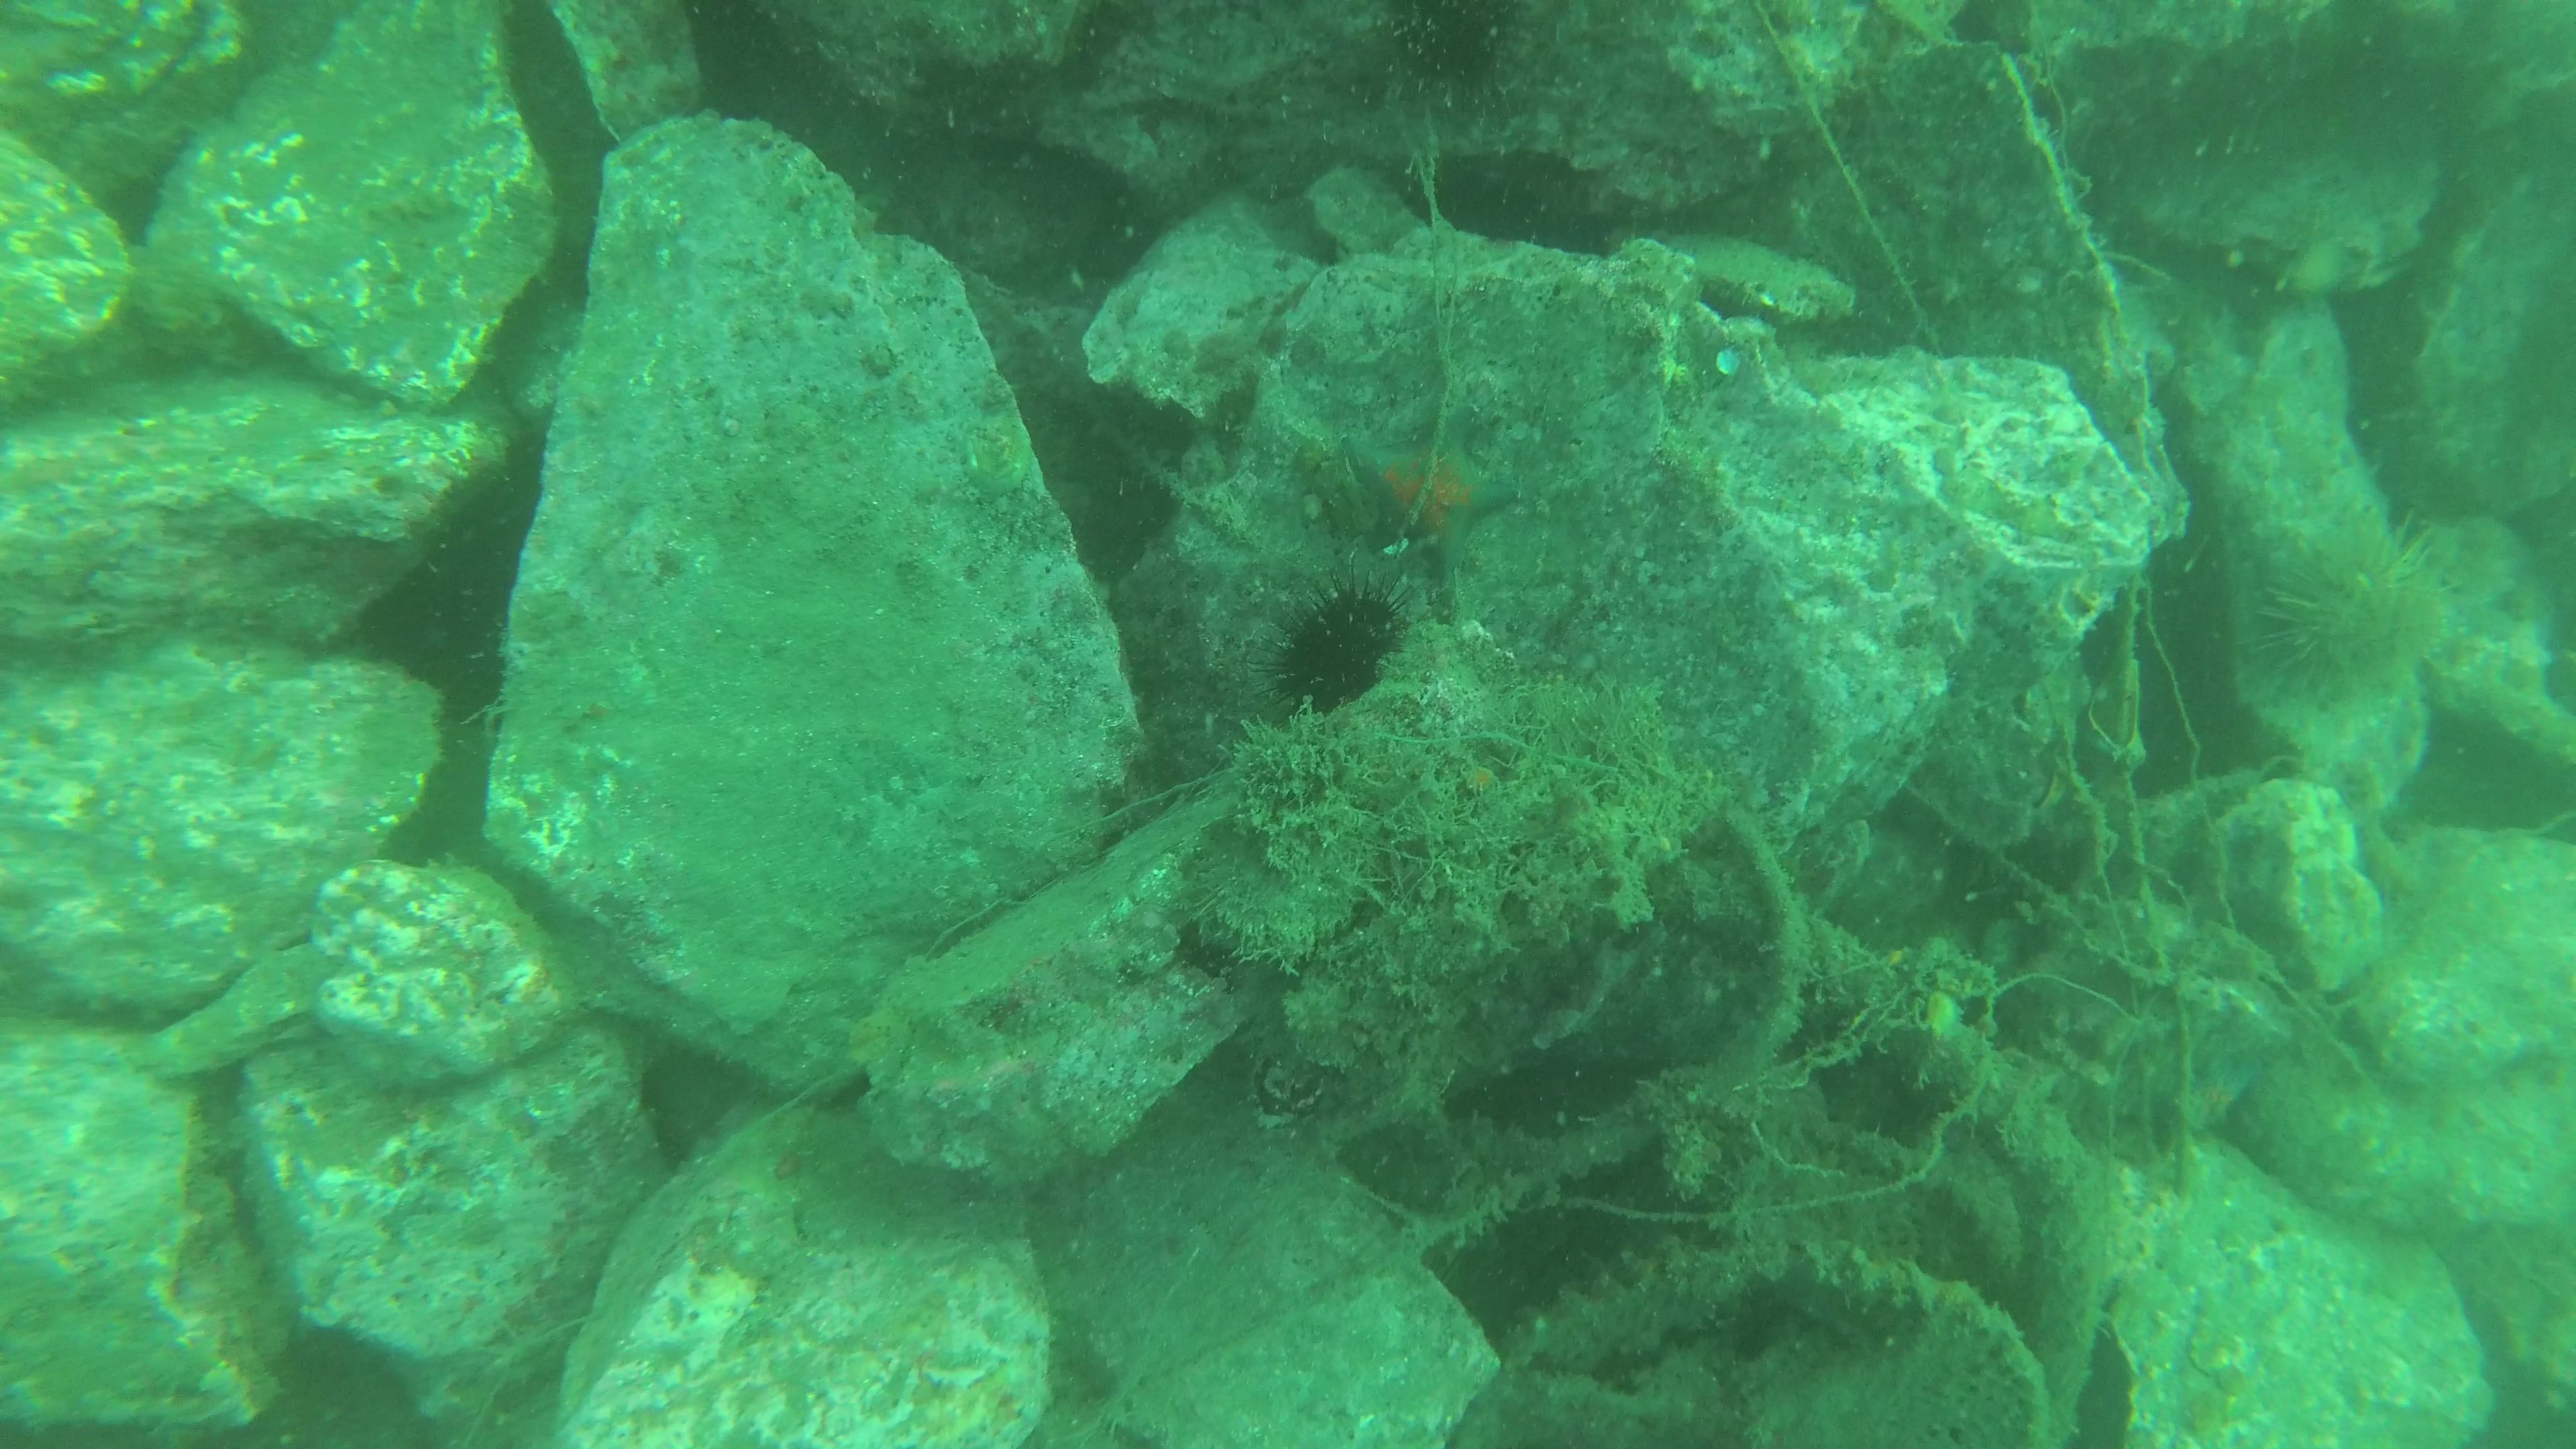echinus: (2247, 497, 2480, 741), (1249, 561, 1407, 722), (1361, 0, 1545, 103)
starfish: (1338, 414, 1525, 589), (2171, 1047, 2273, 1146)
